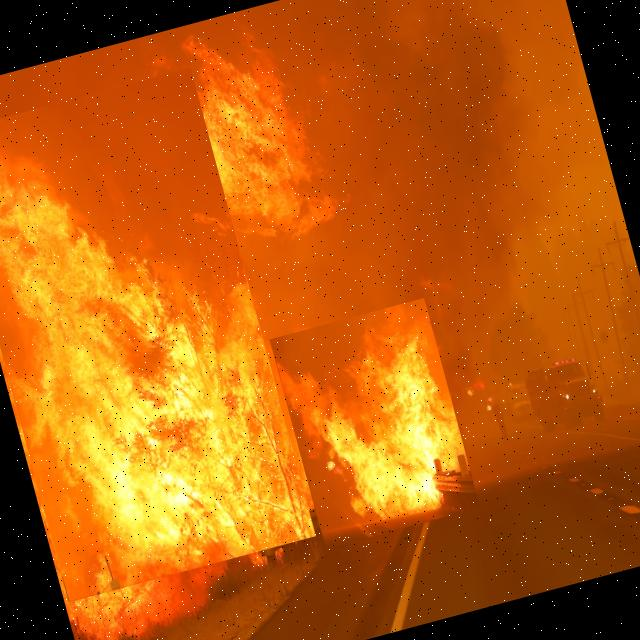fire: (0, 67, 315, 602), (270, 297, 480, 548)
